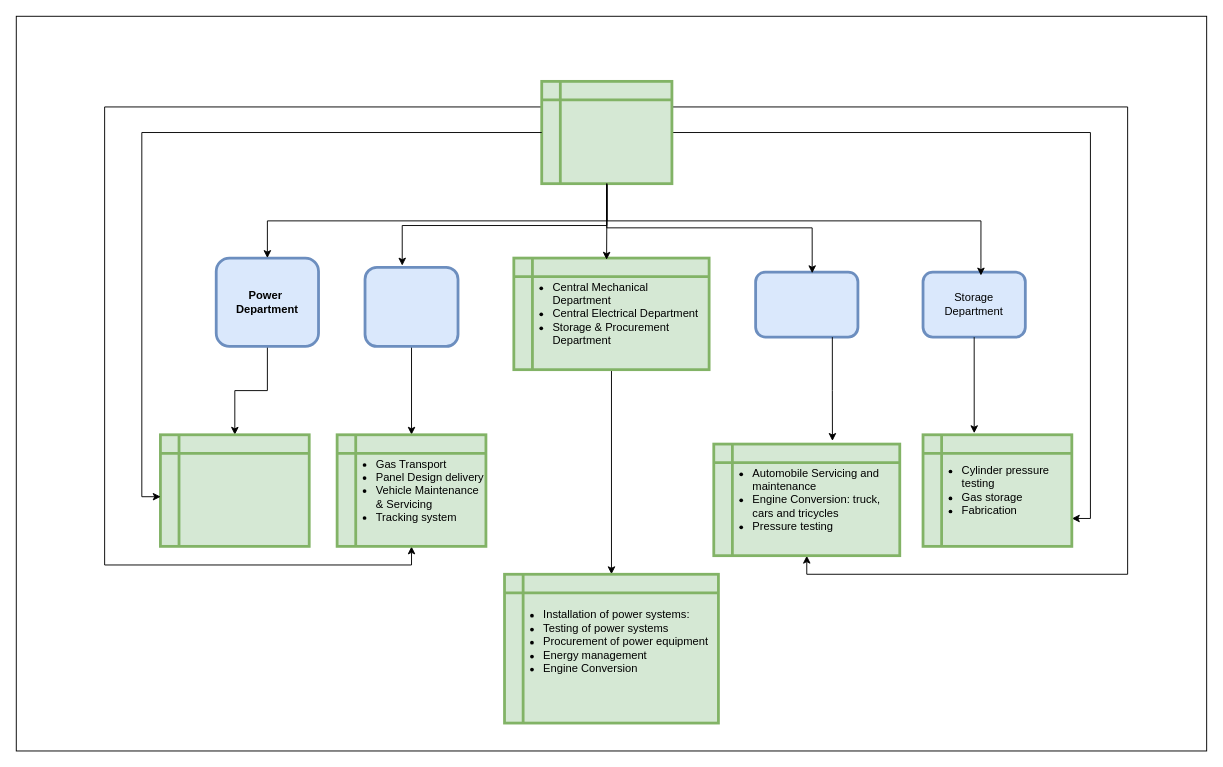
The diagram is 1223 pixels wide and 767 high, and some of its shapes have lost their labels. The shapes that lost their labels are listed below. From the top down, each one's centre as x and y in pixels, then its label:
At (606,132): "Administration Board of directors Stake Holders".
At (411,306): "Logistics department".
At (806,304): "Automobile Department".
At (234,490): "Installation of Energy Systems Consultancy Testing and maintenance".
